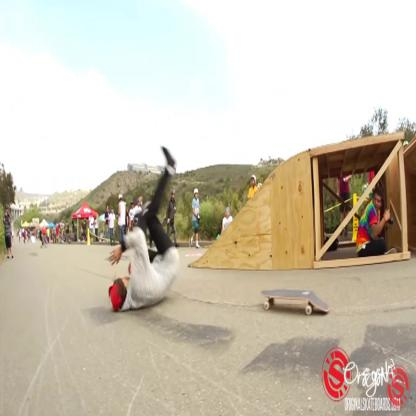Fall_Down: (106, 144, 181, 317)
